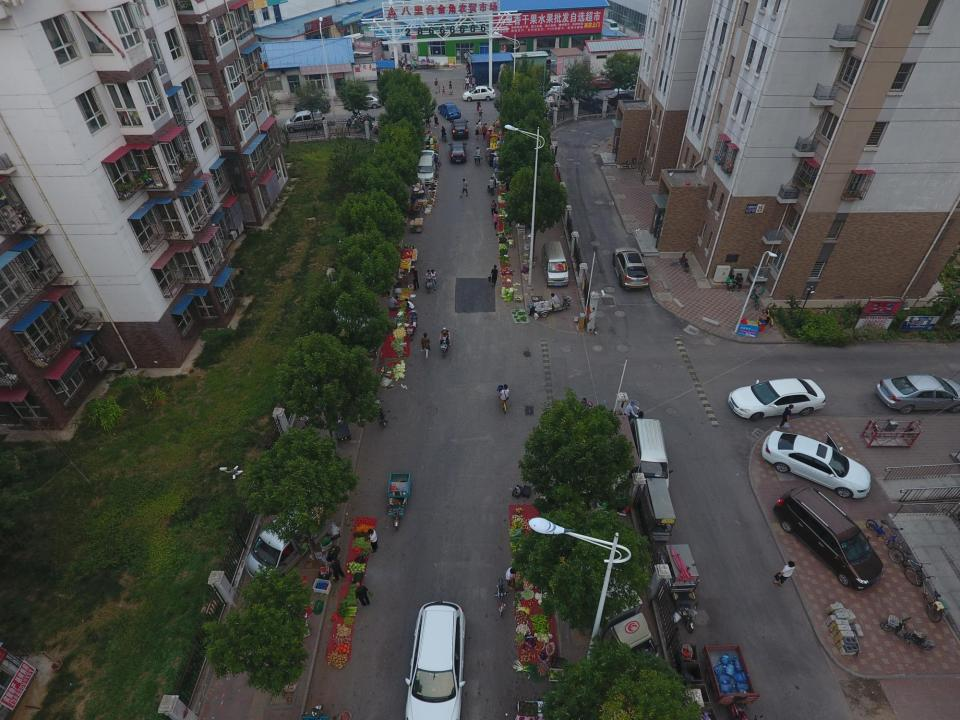car: (760, 430, 872, 499), (404, 600, 466, 720), (728, 378, 825, 422), (874, 372, 960, 414), (612, 247, 649, 289), (571, 91, 611, 114), (293, 96, 331, 115), (614, 82, 655, 98), (576, 76, 622, 90), (516, 84, 558, 99), (462, 85, 496, 102), (605, 91, 641, 107), (345, 96, 384, 110), (532, 82, 576, 93), (449, 118, 469, 140), (438, 102, 461, 121), (448, 142, 467, 163)
truck: (562, 546, 660, 684), (521, 90, 571, 114), (522, 99, 559, 118), (493, 121, 507, 149)
van: (772, 484, 884, 591), (244, 487, 336, 588), (625, 418, 673, 499), (541, 241, 571, 287), (286, 108, 324, 133), (416, 150, 436, 185), (603, 18, 620, 32)
